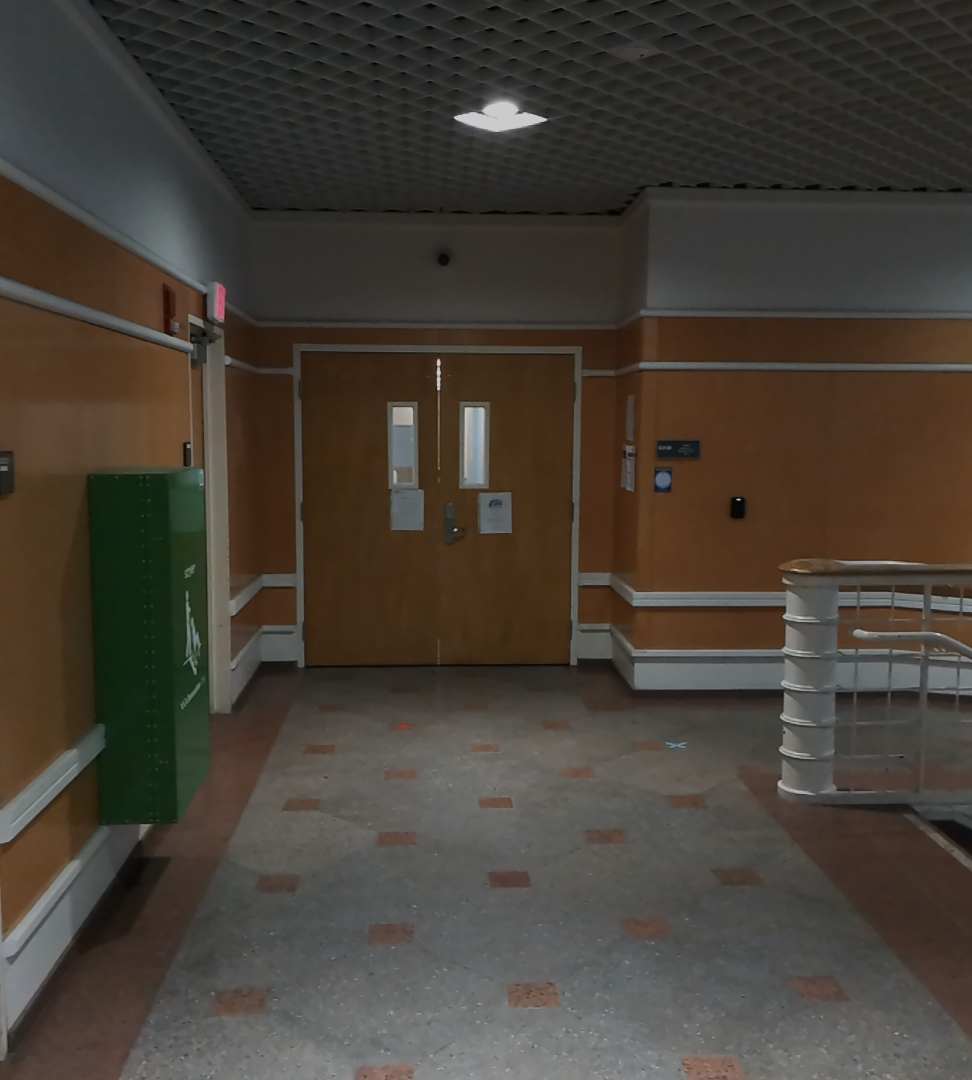emergency_exit: (85, 463, 214, 827)
